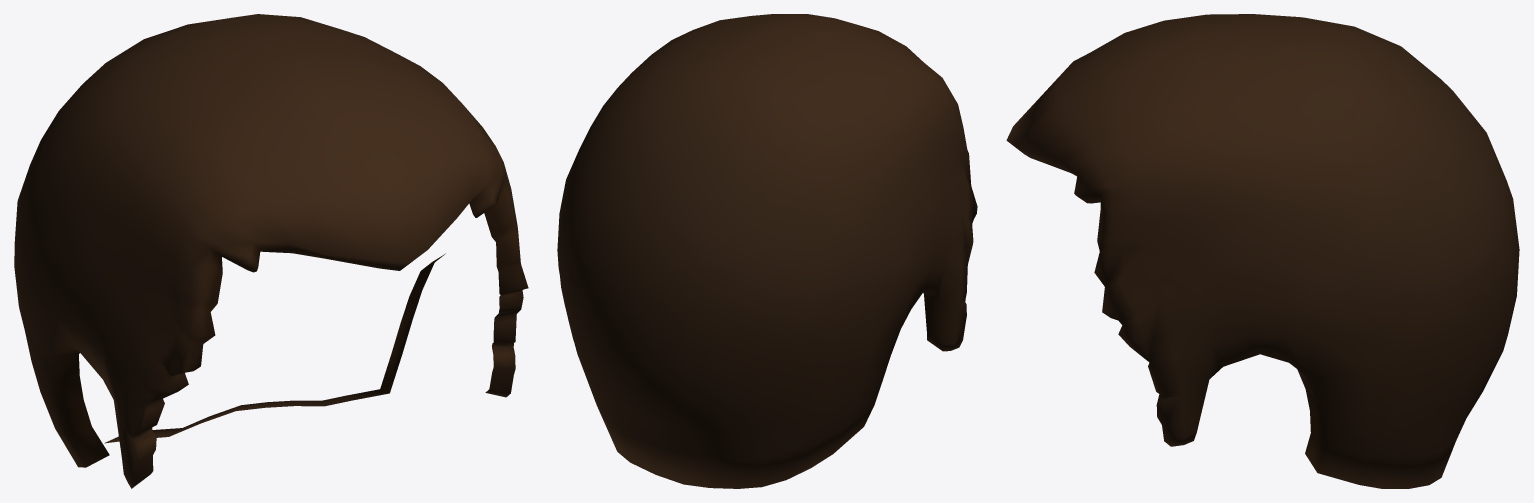
File: buzzed.glb
3 views of the same model, side by side, from view 1: azimuth 30°, elevation 25°; view 2: azimuth 150°, elevation 25°; view 3: azimuth 270°, elevation 25° (orthographic). The views are drawn at different scales.
Visible parts, largest first — view 1: buzzed; view 2: buzzed; view 3: buzzed.
Boxes of the visible parts, left/top/right/bottom form: buzzed: left=14, top=14, right=528, bottom=488; buzzed: left=557, top=14, right=977, bottom=488; buzzed: left=1006, top=14, right=1519, bottom=488.
Bounding box in the file's own units: 0.1546 × 0.1714 × 0.1897.
Materials: 1 (1 with a texture image).
